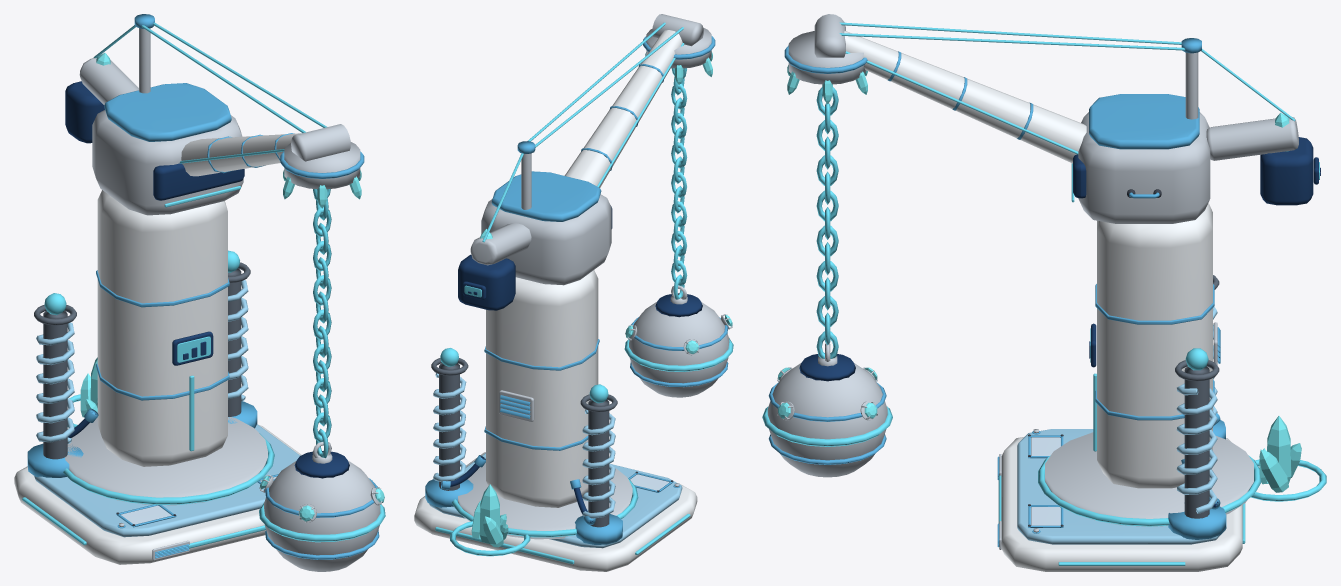
Rendered from WreckingCrane_T3.fbx.
3 renders of one model, left to right at view 1: azimuth 30°, elevation 25°; view 2: azimuth 150°, elevation 25°; view 3: azimuth 270°, elevation 25°, orthographic. The views are drawn at different scales.
Visible parts, largest first — view 1: WreckingCraneT3Tower, WreckingCraneT3Cab, WreckingCraneT3Deck, WreckingCraneT3Ball, WreckingCraneT3Coils, WreckingCraneT3Boom, WreckingCraneT3BallGlow, WreckingCraneT3TowerGlow, WreckingCraneT3Magnet, WreckingCraneT3CabGlow, WreckingCraneT3DeckGlow, WreckingCraneT3CoreGlow (+3 smaller); view 2: WreckingCraneT3Tower, WreckingCraneT3Cab, WreckingCraneT3Boom, WreckingCraneT3Coils, WreckingCraneT3Deck, WreckingCraneT3Ball, WreckingCraneT3BallGlow, WreckingCraneT3CoreGlow, WreckingCraneT3CabGlow, WreckingCraneT3Magnet, WreckingCraneT3TowerGlow, WreckingCraneT3DeckGlow (+2 smaller); view 3: WreckingCraneT3Tower, WreckingCraneT3Cab, WreckingCraneT3Boom, WreckingCraneT3Deck, WreckingCraneT3Ball, WreckingCraneT3Coils, WreckingCraneT3BallGlow, WreckingCraneT3CoreGlow, WreckingCraneT3CabGlow, WreckingCraneT3Magnet, WreckingCraneT3TowerGlow, WreckingCraneT3BoomGlow (+1 smaller).
Boxes of the visible parts, x1,y1,x2,y2 form: WreckingCraneT3Tower: (65, 190, 267, 505); WreckingCraneT3Cab: (92, 14, 244, 215); WreckingCraneT3Deck: (14, 424, 301, 564); WreckingCraneT3Ball: (259, 442, 384, 571); WreckingCraneT3Coils: (27, 262, 257, 477); WreckingCraneT3Boom: (65, 58, 350, 176); WreckingCraneT3BallGlow: (259, 189, 385, 542); WreckingCraneT3TowerGlow: (63, 336, 274, 504); WreckingCraneT3Magnet: (280, 142, 364, 189); WreckingCraneT3CabGlow: (93, 22, 326, 207); WreckingCraneT3DeckGlow: (22, 497, 265, 554); WreckingCraneT3CoreGlow: (67, 357, 97, 427); WreckingCraneT3Tower: (458, 270, 632, 539); WreckingCraneT3Cab: (481, 141, 612, 285); WreckingCraneT3Boom: (458, 14, 703, 310); WreckingCraneT3Coils: (425, 358, 622, 544); WreckingCraneT3Deck: (414, 452, 697, 571); WreckingCraneT3Ball: (625, 285, 732, 397); WreckingCraneT3BallGlow: (624, 68, 733, 371); WreckingCraneT3CoreGlow: (450, 484, 530, 556); WreckingCraneT3CabGlow: (482, 22, 683, 242); WreckingCraneT3Magnet: (643, 27, 715, 68); WreckingCraneT3TowerGlow: (451, 478, 638, 537); WreckingCraneT3DeckGlow: (435, 514, 690, 564); WreckingCraneT3Tower: (1045, 203, 1253, 526); WreckingCraneT3Cab: (1073, 38, 1210, 223); WreckingCraneT3Boom: (814, 14, 1320, 205); WreckingCraneT3Deck: (997, 429, 1242, 571); WreckingCraneT3Ball: (767, 343, 887, 477); WreckingCraneT3Coils: (1168, 275, 1225, 539); WreckingCraneT3BallGlow: (762, 87, 892, 446); WreckingCraneT3CoreGlow: (1250, 416, 1326, 501); WreckingCraneT3CabGlow: (839, 22, 1295, 202); WreckingCraneT3Magnet: (784, 31, 867, 84); WreckingCraneT3TowerGlow: (1038, 328, 1261, 526); WreckingCraneT3BoomGlow: (845, 51, 1319, 179).
Bounding box in the file's own units: 236 × 425 × 445.
